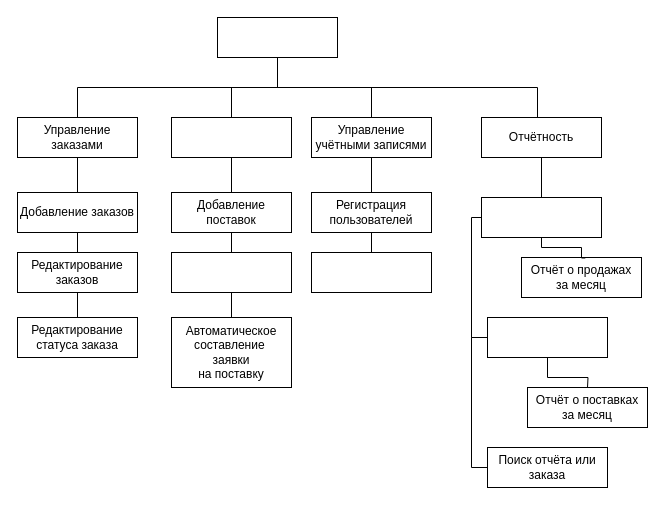
Some shapes in this 665 by 505 pixel diagram are drawn without their labels. The shapes that lost their labels are listed below. From the top down, each one's centre as x and y in pixels, then its label:
At (277,37): "Главное меню".
At (231,137): "Управление поставками".
At (541,217): "Формирование отчёта о продажах".
At (231,272): "Редактирование поставок".
At (371,272): "Авторизация пользователей".
At (547,337): "Формирование отчёта о поставках".
